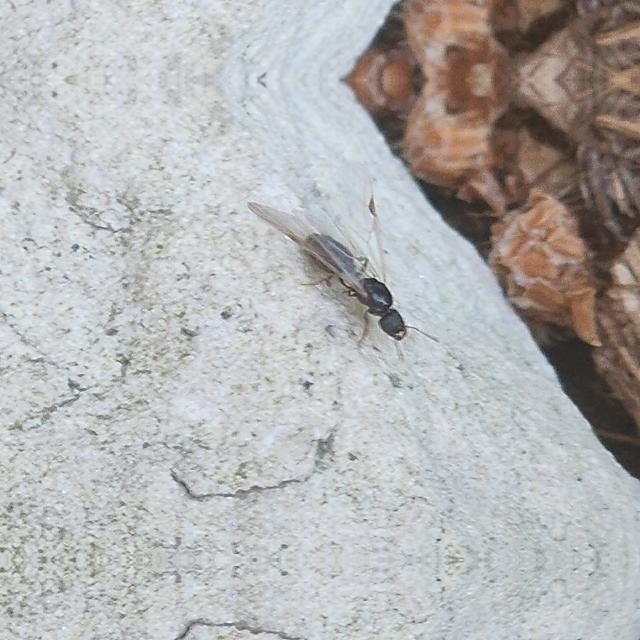Tetramorium: (280, 192, 432, 354)
